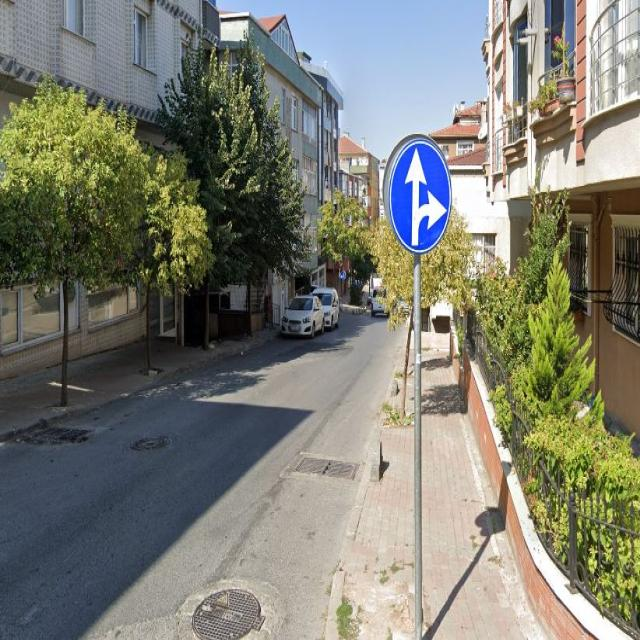ilerisag: (388, 139, 452, 251)
